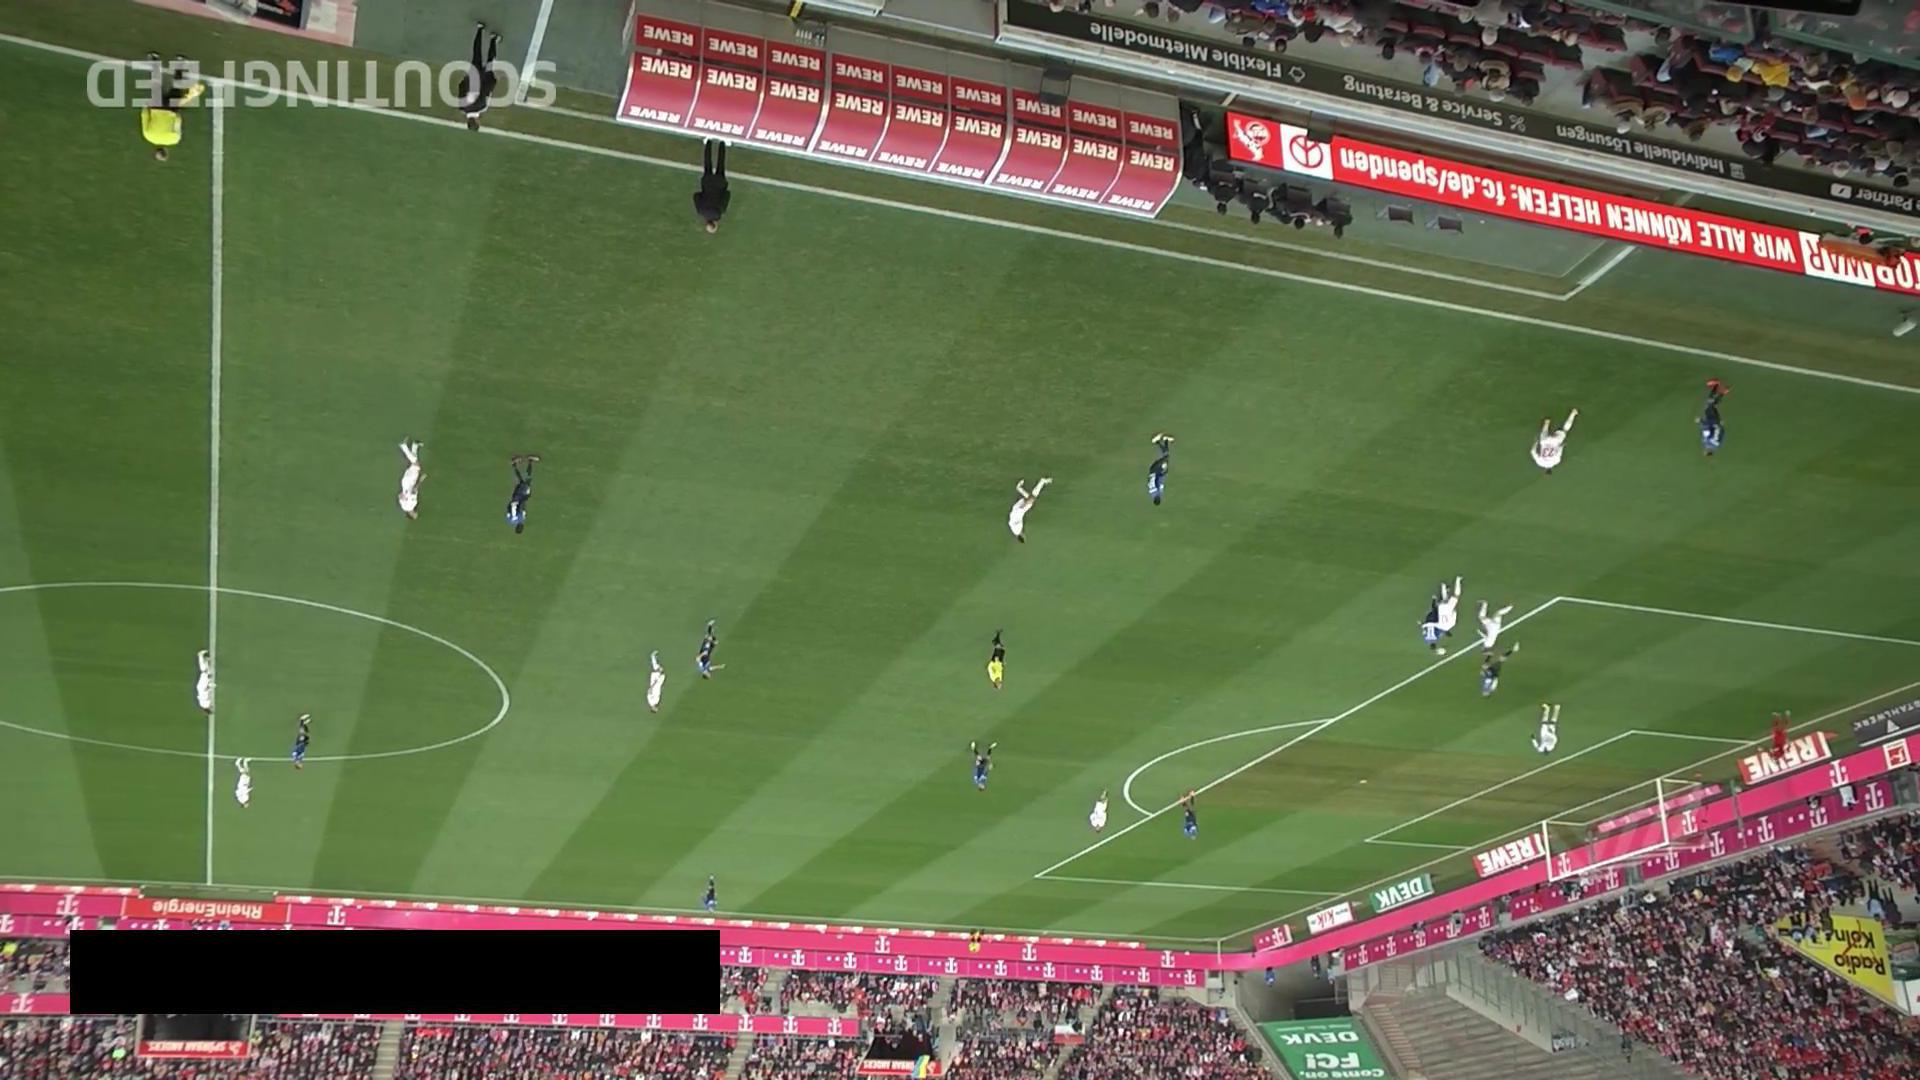ball: (1436, 646, 1447, 656)
goalkeeper: (1770, 710, 1790, 762)
player: (1529, 407, 1579, 479), (1008, 477, 1053, 545), (1695, 380, 1731, 459), (506, 455, 541, 536), (397, 436, 427, 522), (1480, 641, 1521, 699), (1475, 600, 1514, 657), (1146, 434, 1174, 507), (695, 619, 726, 682), (1436, 575, 1464, 640), (1530, 702, 1561, 756), (1418, 596, 1446, 655), (969, 741, 998, 793), (646, 649, 666, 715), (195, 649, 214, 716), (291, 713, 312, 771), (1179, 789, 1199, 841), (234, 758, 254, 810), (1089, 788, 1109, 834), (701, 875, 718, 915)
referee: (142, 51, 190, 163), (986, 630, 1005, 691), (967, 924, 984, 958)
